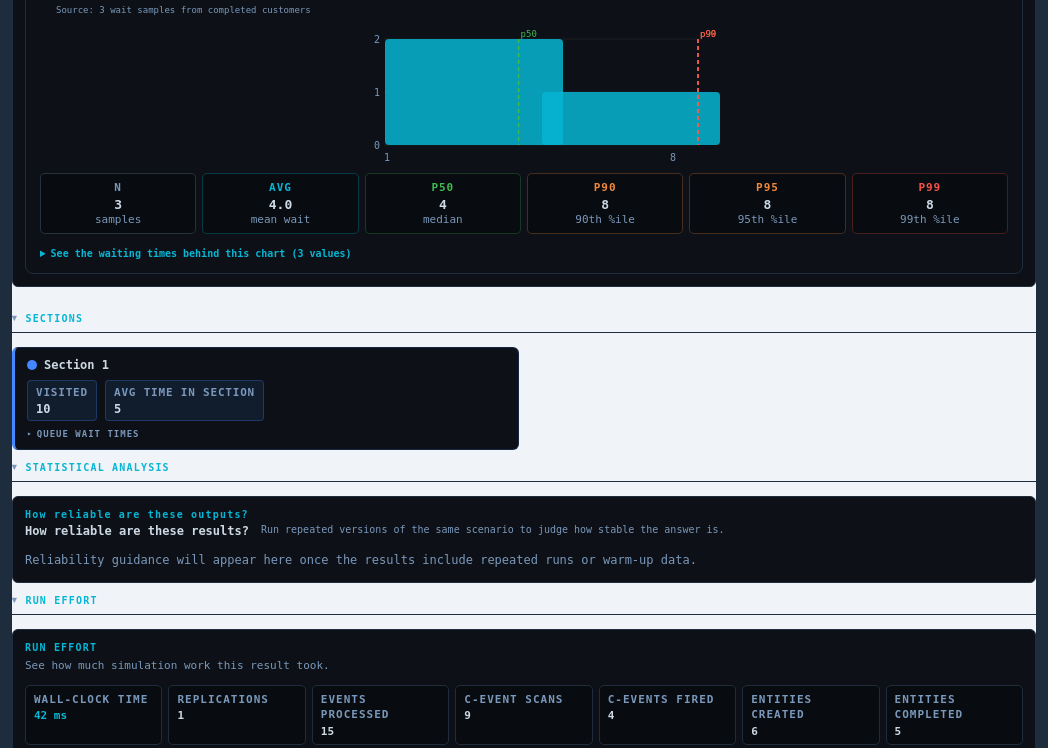
Scenario: ResultsWorkspace › shows Balked/Blocked columns in the queue table when perQueue has rejections
The image size is (1048, 748).
(page scrolled)
Click the text "▸ QUEUE WAIT TIMES" at point(83, 434), box left=27, top=429, right=140, bottom=439
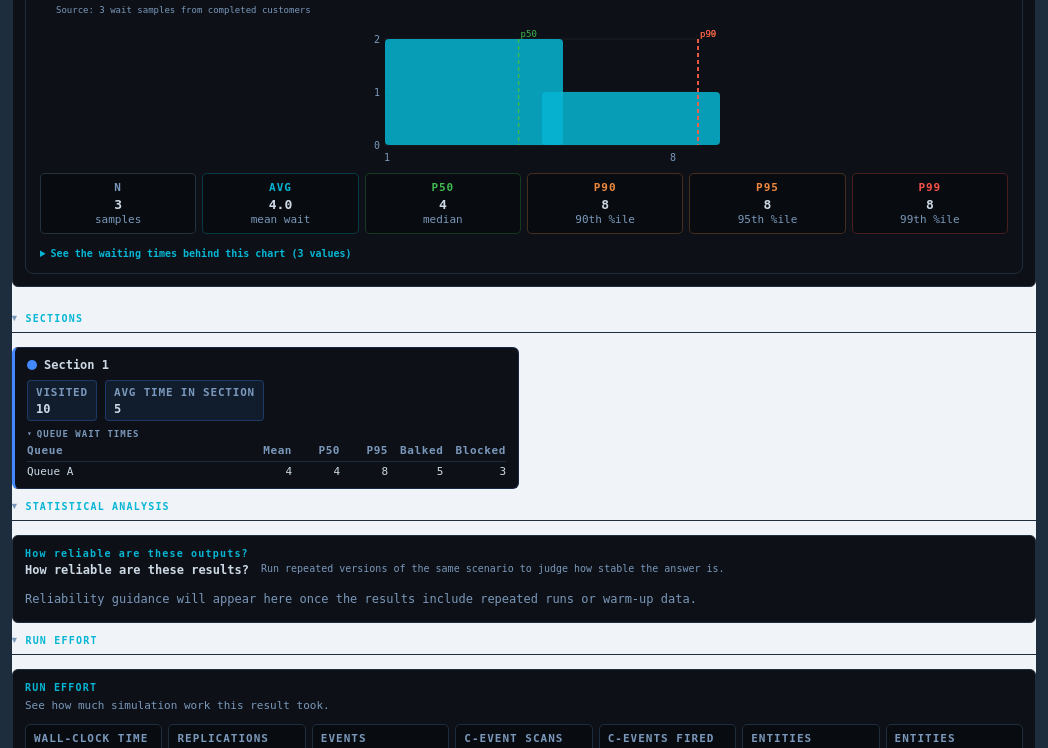
Check: the column heading "Balked" is shown, box left=388, top=443, right=443, bottom=462
Check: the column heading "Blocked" is shown, box left=443, top=443, right=506, bottom=462
Check: the text "5" is shown, box left=388, top=462, right=443, bottom=478
